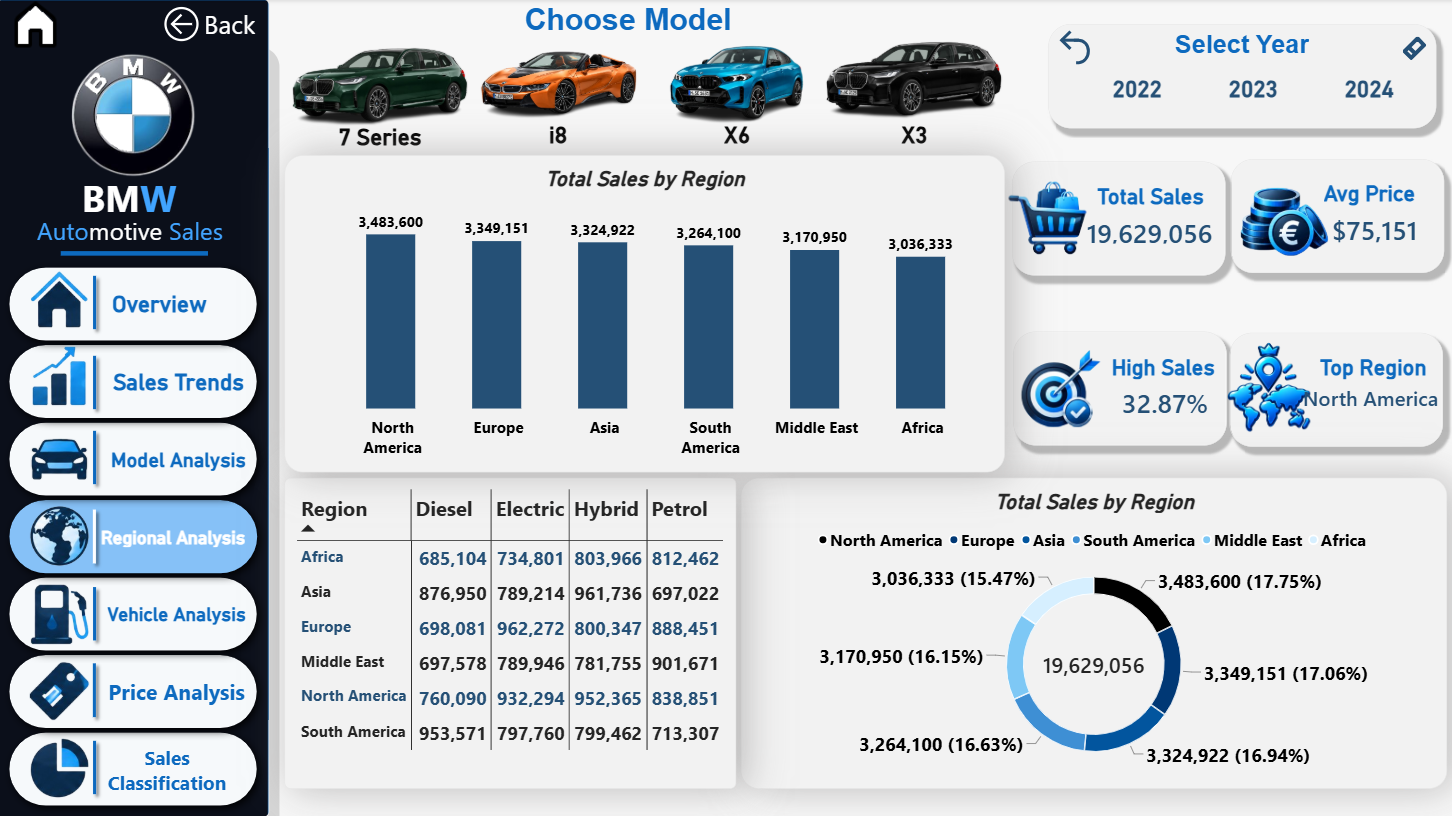

The page's visual inventory and layout, read from the dashboard file:
{"tool":"powerbi","page":{"name":"Regional Analysis","canvas":[1920,1080],"ordinal":4},"visuals":[{"type":"shape","box":[0,0,359.5,1080.4],"z":0},{"type":"actionButton","box":[214.3,1.8,185.2,63.6],"z":1000},{"type":"image","box":[0,0,101.7,65.4],"z":2000},{"type":"image","box":[0,39.9,359.5,227],"z":3000},{"type":"textbox","box":[112.6,229.1,148.9,79.9],"z":4000},{"type":"textbox","box":[52.7,283.6,254.2,52.7],"z":5000},{"type":"shape","box":[83.5,309,194.3,54.5],"z":6000},{"type":"shape","box":[0,951.2,358.9,128.8],"z":7000},{"type":"shape","box":[0,849.1,358.9,128.8],"z":8000},{"type":"shape","box":[0,746.8,358.9,128.8],"z":9000},{"type":"shape","box":[0,644.6,359.5,128.9],"z":10000},{"type":"shape","box":[0,542.2,358.9,128.8],"z":11000},{"type":"shape","box":[0,439.9,358.9,128.8],"z":12000},{"type":"shape","box":[-0.1,337.6,358.9,128.8],"z":13000},{"type":"image","box":[43.6,352.3,79.1,86.5],"z":14000},{"type":"shape","box":[112.6,355.9,33.1,88.3],"z":15000},{"type":"shape","box":[112.6,664.6,32.7,89],"z":16000},{"type":"image","box":[43.6,453.9,79.1,86.5],"z":17000},{"type":"shape","box":[112.6,561.1,33.1,88.3],"z":18000},{"type":"image","box":[43.6,564.7,79.1,86.5],"z":19000},{"type":"image","box":[43.6,664.6,79.1,86.5],"z":20000},{"type":"shape","box":[112.6,461.2,33.1,88.3],"z":21000},{"type":"image","box":[43.6,768.1,79.1,86.5],"z":22000},{"type":"shape","box":[112.6,766.2,33.1,88.3],"z":23000},{"type":"image","box":[43.6,869.7,79.1,86.5],"z":24000},{"type":"shape","box":[112.6,867.9,32.7,89],"z":25000},{"type":"image","box":[43.6,971.4,79.1,86.5],"z":26000},{"type":"shape","box":[112.6,969.6,33.1,88.3],"z":27000},{"type":"shape","box":[1387.2,32.7,512,138],"z":28000},{"type":"advancedSlicerVisual","fields":{"Values":["BMW_Car_Sales_Classification.Year"]},"box":[1392.7,69,501.1,101.7],"z":29000},{"type":"image","box":[379.5,40.6,254.2,136.2],"z":30000},{"type":"image","box":[614.3,39.9,254.2,136.2],"z":31000},{"type":"image","box":[849.2,41.8,254.2,136.2],"z":32000},{"type":"image","box":[1084,32.7,254.2,136.2],"z":33000},{"type":"shape","box":[690,1.8,286.9,50.8],"z":34000},{"type":"shape","box":[435.8,156.2,139.8,50.8],"z":35000},{"type":"shape","box":[708,154,65.4,50.8],"z":36000},{"type":"shape","box":[940.6,152.5,72.6,54.5],"z":37000},{"type":"shape","box":[1165.7,152.5,89,54.5],"z":38000},{"type":"shape","box":[1552.5,34.5,181.6,50.8],"z":39000},{"type":"actionButton","box":[1396.3,32.7,50.8,61.7],"z":40000},{"type":"shape","box":[1340.3,439.5,281.4,150.7],"z":41000},{"type":"card","fields":{"Values":["BMW_Car_Sales_Classification.High Sales %"]},"box":[1467.1,505.5,147.1,58.1],"z":42000},{"type":"image","box":[1329.4,454,141.6,119.8],"z":43000},{"type":"shape","box":[1458.3,459.5,161.6,50.8],"z":44000},{"type":"shape","box":[1340,215,281.4,150.7],"z":45000},{"type":"image","box":[1330.9,229.5,112.6,119.8],"z":46000},{"type":"shape","box":[1434.4,229.5,174.3,61.7],"z":47000},{"type":"card","title":"Total Sales","fields":{"Values":["BMW_Car_Sales_Classification.Total Sales"]},"box":[1419.9,278.6,201.5,59.9],"z":48000},{"type":"shape","box":[1626.2,439.6,281.4,150.7],"z":49000},{"type":"image","box":[1608,449.6,136,122],"z":50000},{"type":"shape","box":[1734.5,459.6,161.6,50.8],"z":51000},{"type":"shape","box":[1628.1,211,281.4,150.7],"z":52000},{"type":"image","box":[1628.7,223.7,141.6,121.7],"z":53000},{"type":"shape","box":[1730.4,231,161.6,50.8],"z":54000},{"type":"card","fields":{"Values":["BMW_Car_Sales_Classification.Avg Price"]},"box":[1743.1,274.2,148.9,63.6],"z":55000},{"type":"donutChart","fields":{"Category":["BMW_Car_Sales_Classification.Region"],"Y":["BMW_Car_Sales_Classification.Total Sales"]},"box":[982,632,932,410],"z":56000},{"type":"pivotTable","fields":{"Columns":["BMW_Car_Sales_Classification.Fuel_Type"],"Rows":["BMW_Car_Sales_Classification.Region"],"Values":["BMW_Car_Sales_Classification.Total Sales"]},"box":[380,632,596,410],"z":57000},{"type":"slicer","fields":{"Values":["BMW_Car_Sales_Classification.Model"]},"box":[728.1,386.8,90.8,52.7],"z":58000},{"type":"columnChart","fields":{"Category":["BMW_Car_Sales_Classification.Region"],"Y":["BMW_Car_Sales_Classification.Total Sales"]},"box":[380,206,950,418],"z":59000},{"type":"actionButton","box":[1844.8,39.9,52.7,50.8],"z":60000},{"type":"card","fields":{"Values":["BMW_Car_Sales_Classification.Top Region"]},"box":[1705.7,494,214.3,67.2],"z":61000}]}

Visuals, with their boxes in screenshot pixels (x1, y1, x2, y2), scaled from the page's 1920x1080 canvas onto the 1452x816 screenshot:
shape: <bbox>0, 0, 272, 815</bbox>
actionButton: <bbox>162, 1, 302, 49</bbox>
image: <bbox>0, 0, 77, 49</bbox>
image: <bbox>0, 30, 272, 202</bbox>
textbox: <bbox>85, 173, 198, 233</bbox>
textbox: <bbox>40, 214, 232, 254</bbox>
shape: <bbox>63, 233, 210, 275</bbox>
shape: <bbox>0, 719, 271, 815</bbox>
shape: <bbox>0, 642, 271, 739</bbox>
shape: <bbox>0, 564, 271, 662</bbox>
shape: <bbox>0, 487, 272, 584</bbox>
shape: <bbox>0, 410, 271, 507</bbox>
shape: <bbox>0, 332, 271, 430</bbox>
shape: <bbox>0, 255, 271, 352</bbox>
image: <bbox>33, 266, 93, 332</bbox>
shape: <bbox>85, 269, 110, 336</bbox>
shape: <bbox>85, 502, 110, 569</bbox>
image: <bbox>33, 343, 93, 408</bbox>
shape: <bbox>85, 424, 110, 491</bbox>
image: <bbox>33, 427, 93, 492</bbox>
image: <bbox>33, 502, 93, 567</bbox>
shape: <bbox>85, 348, 110, 415</bbox>
image: <bbox>33, 580, 93, 646</bbox>
shape: <bbox>85, 579, 110, 646</bbox>
image: <bbox>33, 657, 93, 722</bbox>
shape: <bbox>85, 656, 110, 723</bbox>
image: <bbox>33, 734, 93, 799</bbox>
shape: <bbox>85, 733, 110, 799</bbox>
shape: <bbox>1049, 25, 1436, 129</bbox>
advancedSlicerVisual - BMW_Car_Sales_Classification.Year: <bbox>1053, 52, 1432, 129</bbox>
image: <bbox>287, 31, 479, 134</bbox>
image: <bbox>465, 30, 657, 133</bbox>
image: <bbox>642, 32, 834, 134</bbox>
image: <bbox>820, 25, 1012, 128</bbox>
shape: <bbox>522, 1, 739, 40</bbox>
shape: <bbox>330, 118, 435, 156</bbox>
shape: <bbox>535, 116, 585, 155</bbox>
shape: <bbox>711, 115, 766, 156</bbox>
shape: <bbox>882, 115, 949, 156</bbox>
shape: <bbox>1174, 26, 1311, 64</bbox>
actionButton: <bbox>1056, 25, 1094, 71</bbox>
shape: <bbox>1014, 332, 1226, 446</bbox>
card - BMW_Car_Sales_Classification.High Sales %: <bbox>1109, 382, 1221, 426</bbox>
image: <bbox>1005, 343, 1112, 434</bbox>
shape: <bbox>1103, 347, 1225, 386</bbox>
shape: <bbox>1013, 162, 1226, 276</bbox>
image: <bbox>1006, 173, 1092, 264</bbox>
shape: <bbox>1085, 173, 1217, 220</bbox>
"Total Sales" card: <bbox>1074, 210, 1226, 256</bbox>
shape: <bbox>1230, 332, 1443, 446</bbox>
image: <bbox>1216, 340, 1319, 432</bbox>
shape: <bbox>1312, 347, 1434, 386</bbox>
shape: <bbox>1231, 159, 1444, 273</bbox>
image: <bbox>1232, 169, 1339, 261</bbox>
shape: <bbox>1309, 175, 1431, 213</bbox>
card - BMW_Car_Sales_Classification.Avg Price: <bbox>1318, 207, 1431, 255</bbox>
donutChart - BMW_Car_Sales_Classification.Region x BMW_Car_Sales_Classification.Total Sales: <bbox>743, 478, 1447, 787</bbox>
pivotTable - BMW_Car_Sales_Classification.Fuel_Type x BMW_Car_Sales_Classification.Region: <bbox>287, 478, 738, 787</bbox>
slicer - BMW_Car_Sales_Classification.Model: <bbox>551, 292, 619, 332</bbox>
columnChart - BMW_Car_Sales_Classification.Region x BMW_Car_Sales_Classification.Total Sales: <bbox>287, 156, 1006, 471</bbox>
actionButton: <bbox>1395, 30, 1435, 69</bbox>
card - BMW_Car_Sales_Classification.Top Region: <bbox>1290, 373, 1451, 424</bbox>
